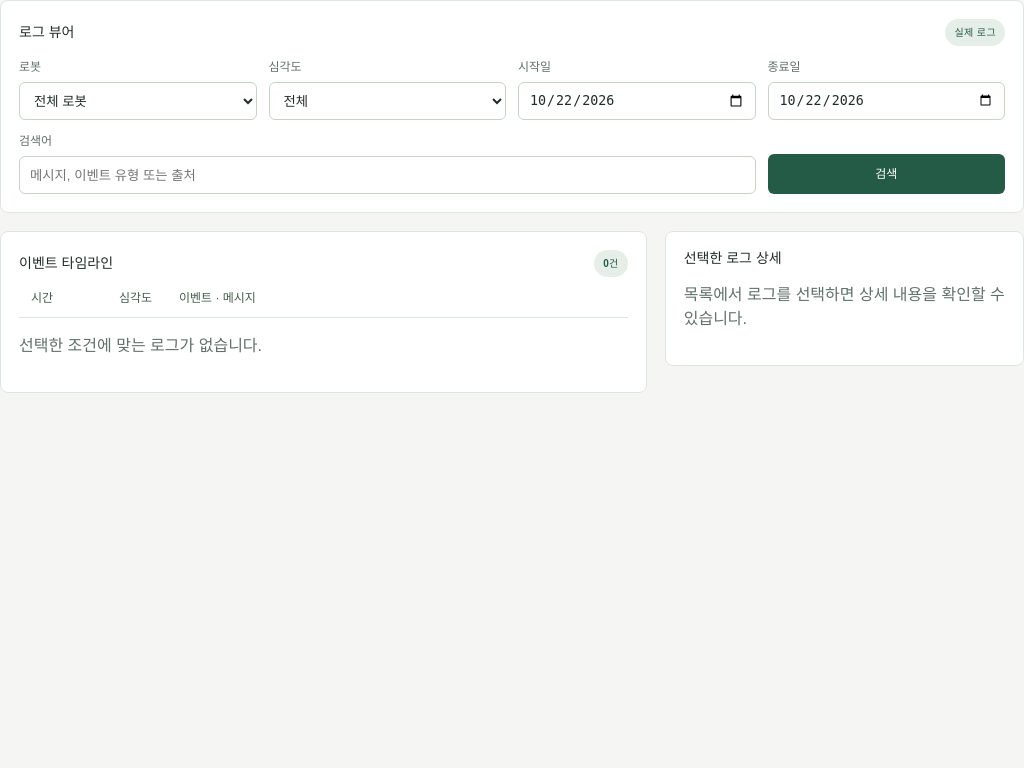
it: keeps the previous result and displays a failed date search
Click the button "검색" at (886, 174), box [768, 154, 1005, 194]
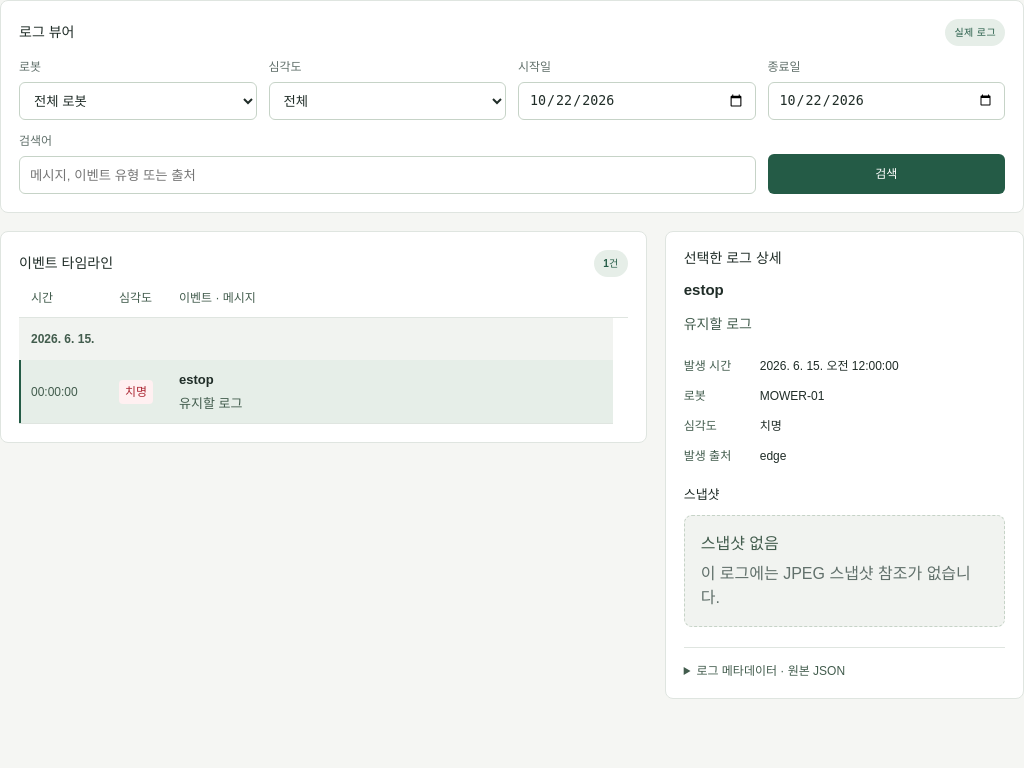
Expected: the button "00:00:00 치명 estop 유지할 로그" is shown, [19, 360, 613, 424]
Type "2026-06-16" into the date field labelled "시작일" at (637, 101), box [518, 82, 756, 120]
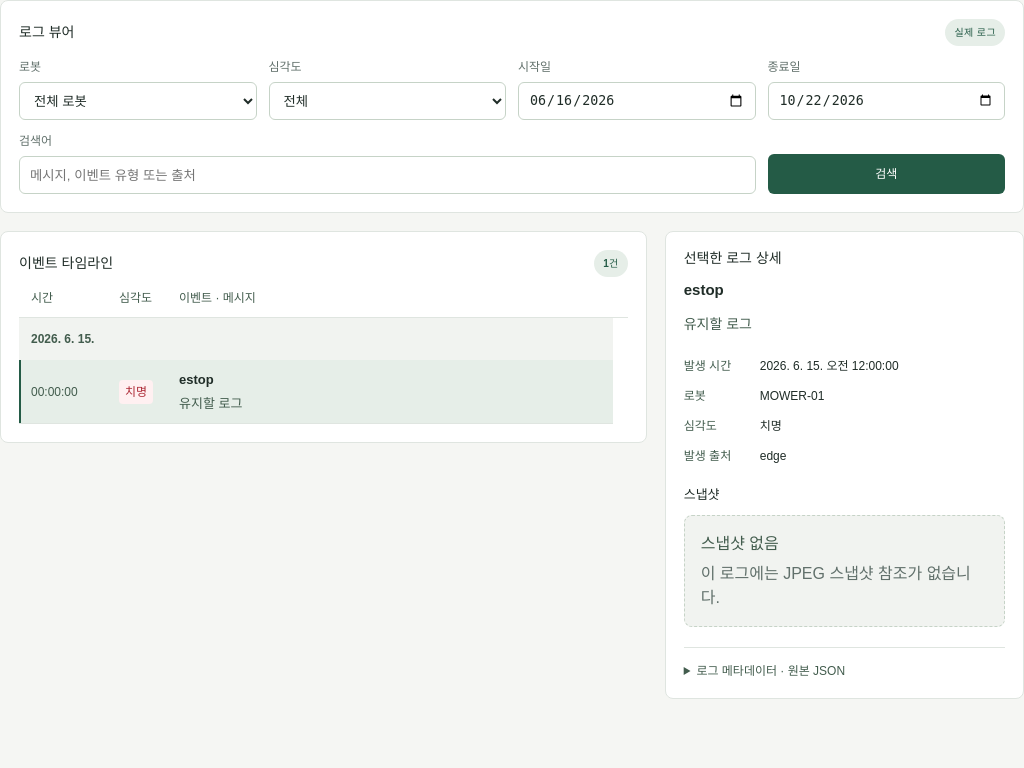
Type "2026-06-15" into the date field labelled "종료일" at (886, 101), box [768, 82, 1005, 120]
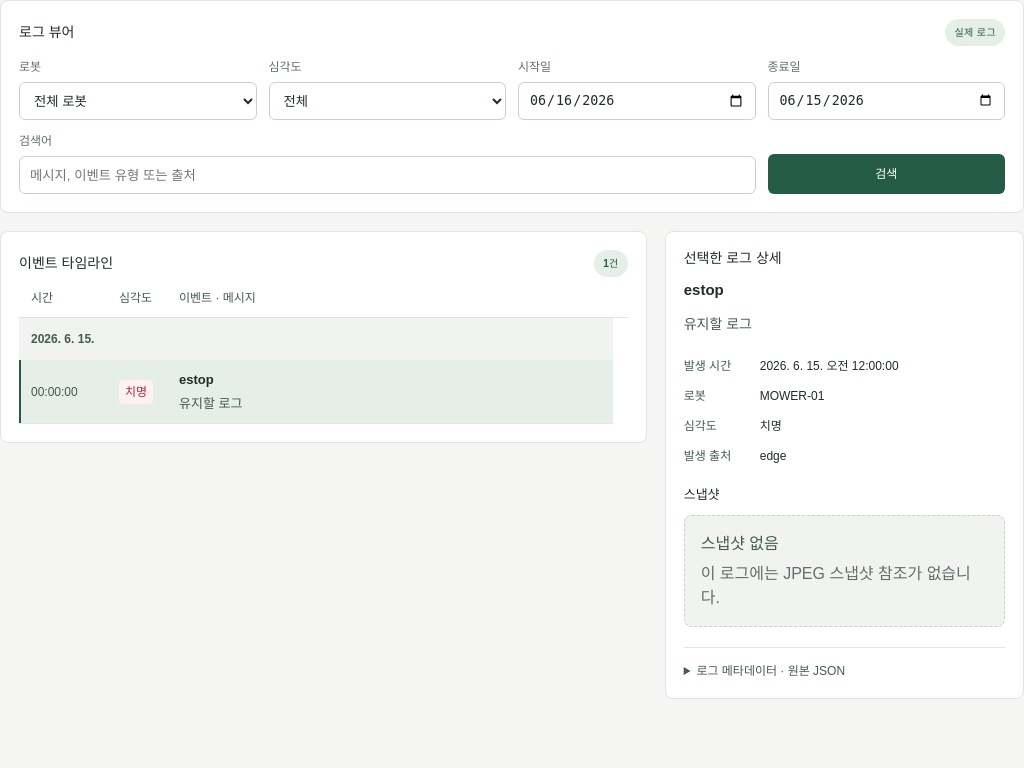
Click the button "검색" at (886, 174), box [768, 154, 1005, 194]
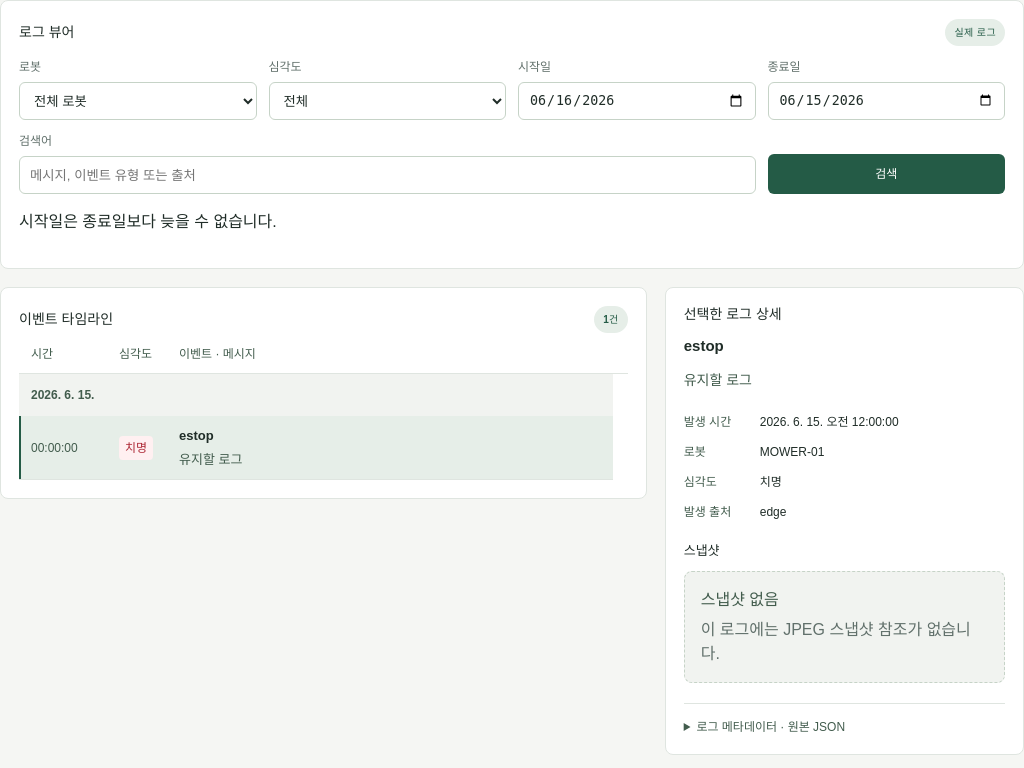
Expected: the button "00:00:00 치명 estop 유지할 로그" is shown, [19, 416, 613, 480]
Expected: the message reads "시작일은 종료일보다 늦을 수 없습니다.", [19, 213, 277, 230]
